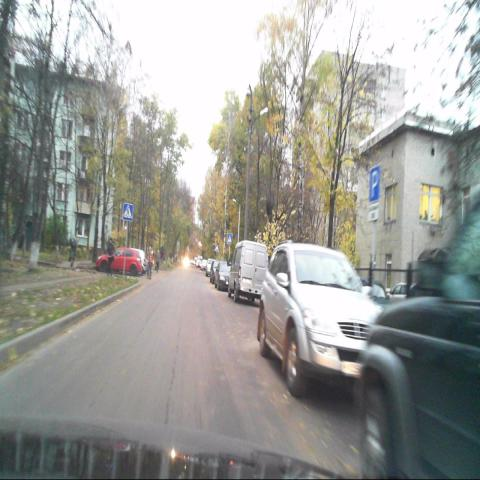5_19_1: (122, 203, 132, 221)
6_4: (368, 164, 380, 200)
